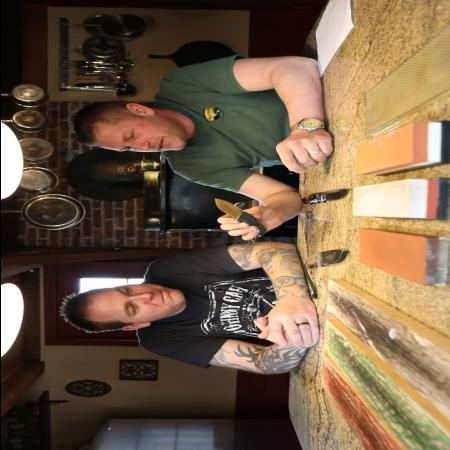long weapon: (204, 192, 268, 241)
